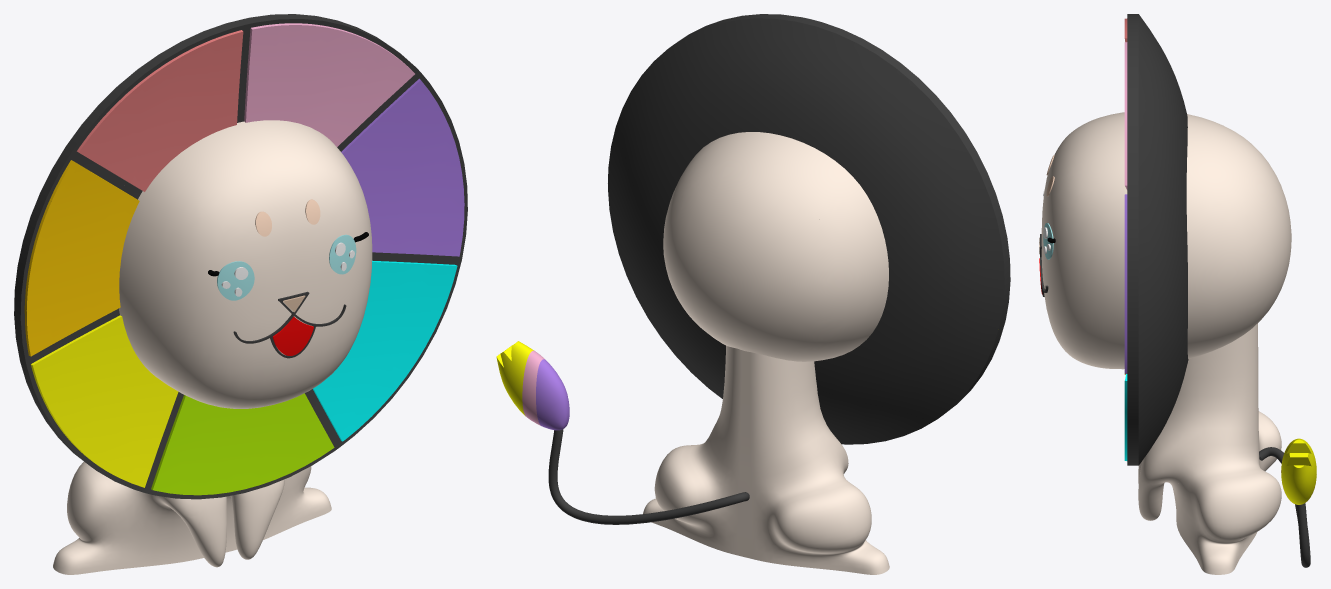
The picture shows the model from 3 angles, left to right: view 1: azimuth 30°, elevation 25°; view 2: azimuth 150°, elevation 25°; view 3: azimuth 270°, elevation 25°; orthographic projection. The views are drawn at different scales.
Visible parts, largest first — view 1: 017_yumelion_L; view 2: 017_yumelion_L; view 3: 017_yumelion_L.
Part boxes in pixels (box(x1,y1,x2,y2)): 017_yumelion_L: box(14, 14, 467, 574); 017_yumelion_L: box(496, 14, 1010, 574); 017_yumelion_L: box(1039, 14, 1316, 574).
Size of the model in its own units: 0.1861 by 0.204 by 0.1066.
